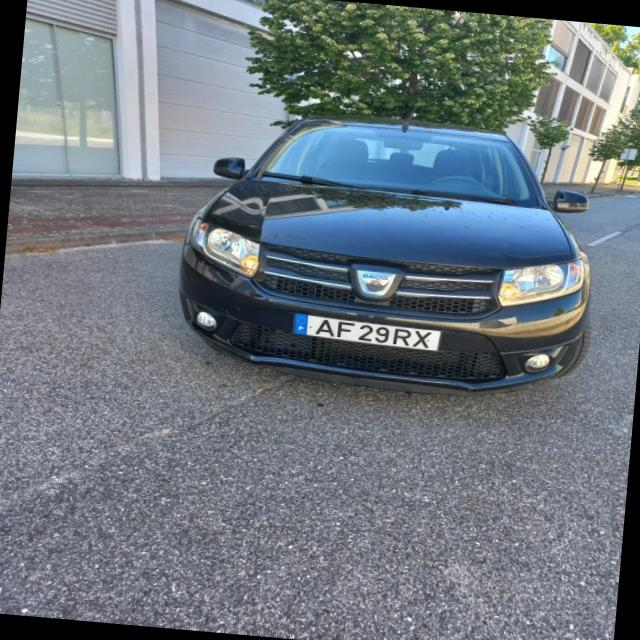portuguese-license-plates: (290, 310, 446, 352)
